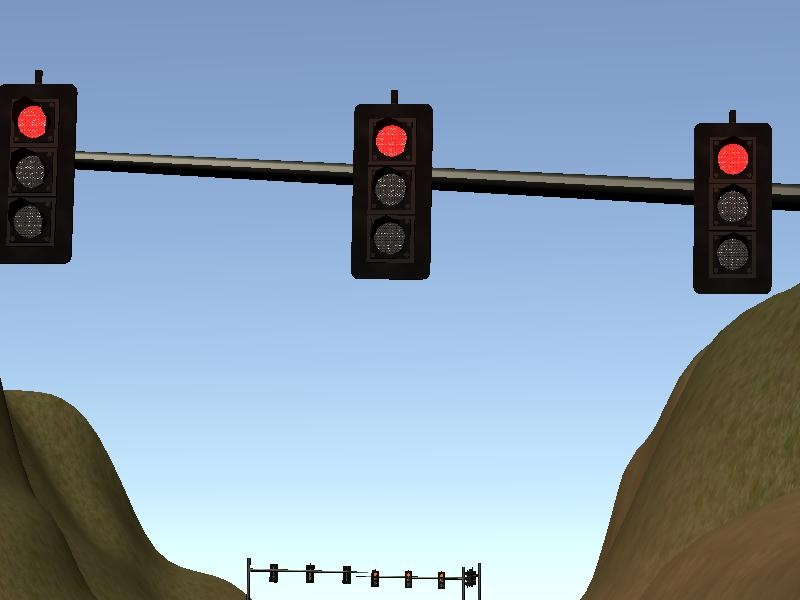RED: (351, 103, 435, 281), (690, 121, 774, 296), (1, 82, 77, 265)
